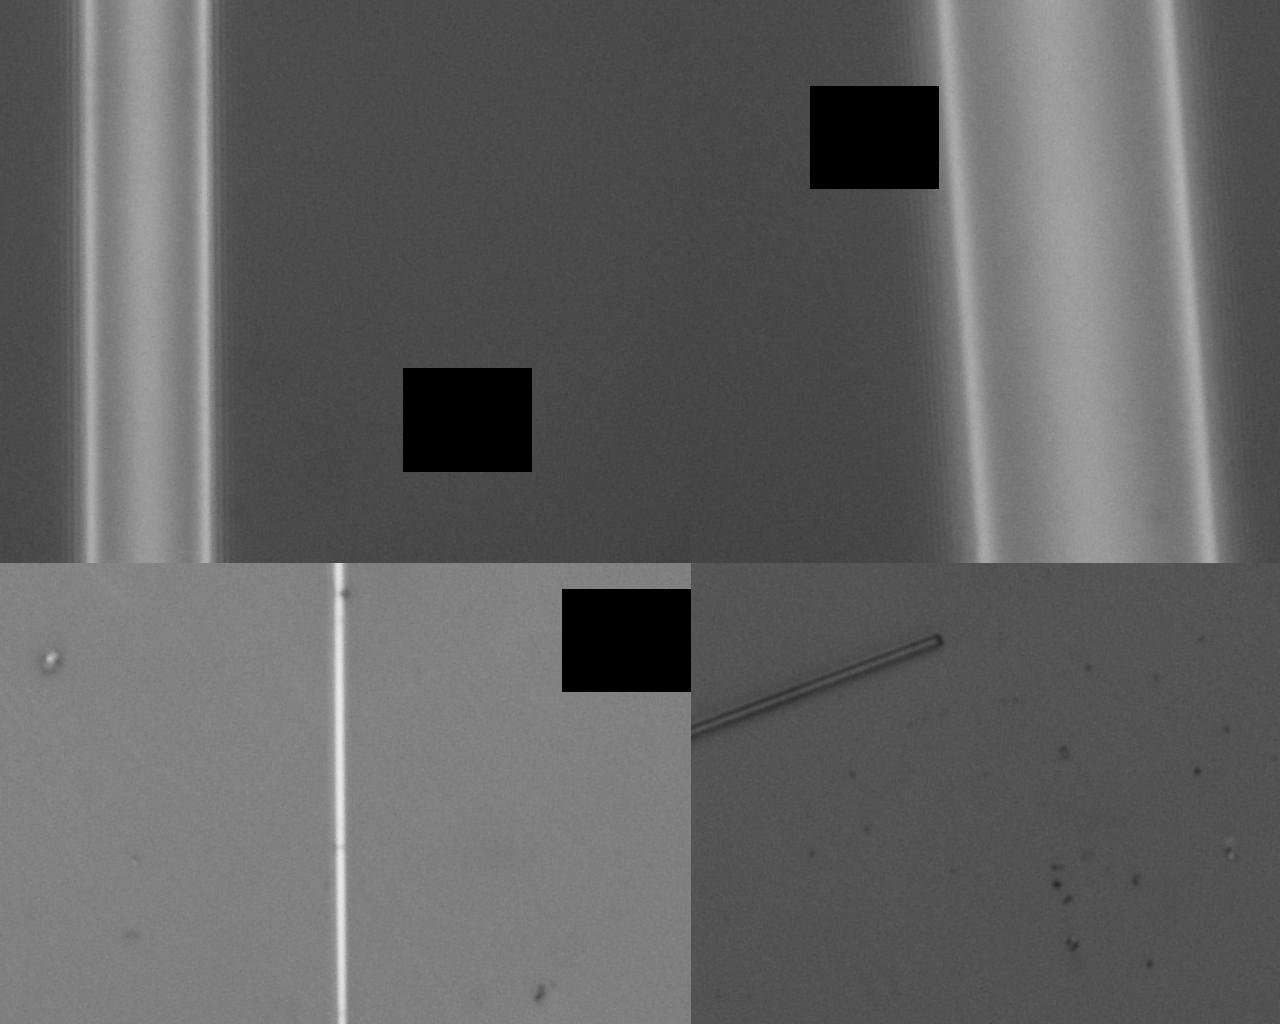fiber: (276, 0, 1017, 1024)
